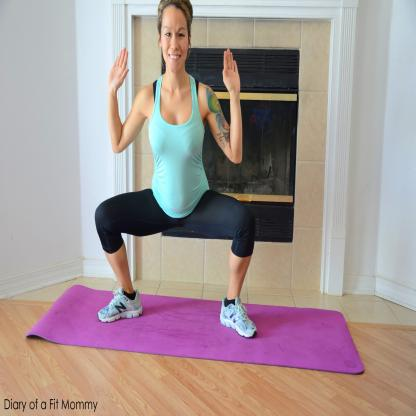godness: (88, 1, 268, 348)
